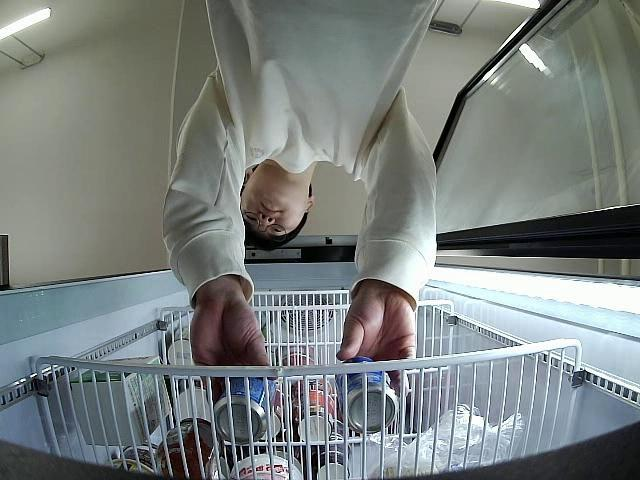15_letsbe: (336, 354, 398, 436), (213, 377, 276, 444)
